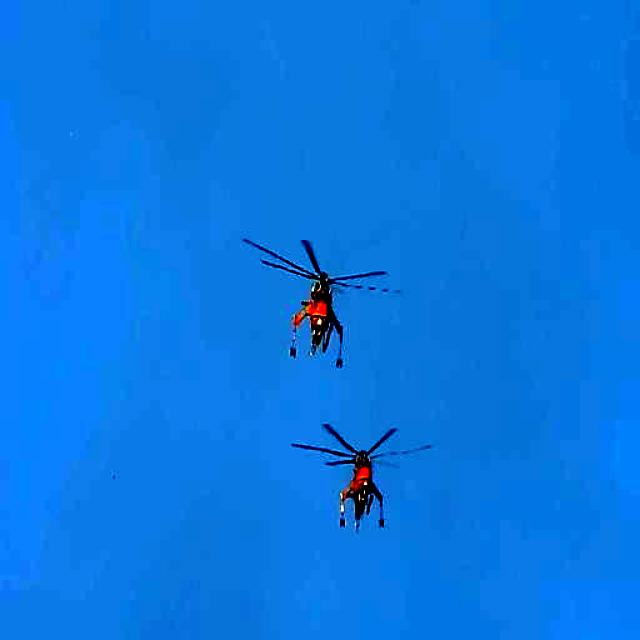drone: (280, 389, 428, 549), (244, 202, 376, 368)
